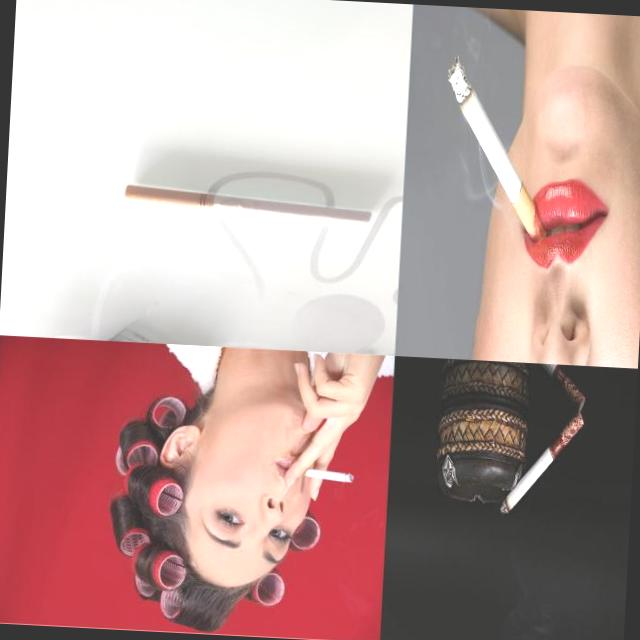smoke: (438, 54, 554, 242), (122, 184, 374, 230), (497, 407, 586, 524), (296, 466, 356, 484)
